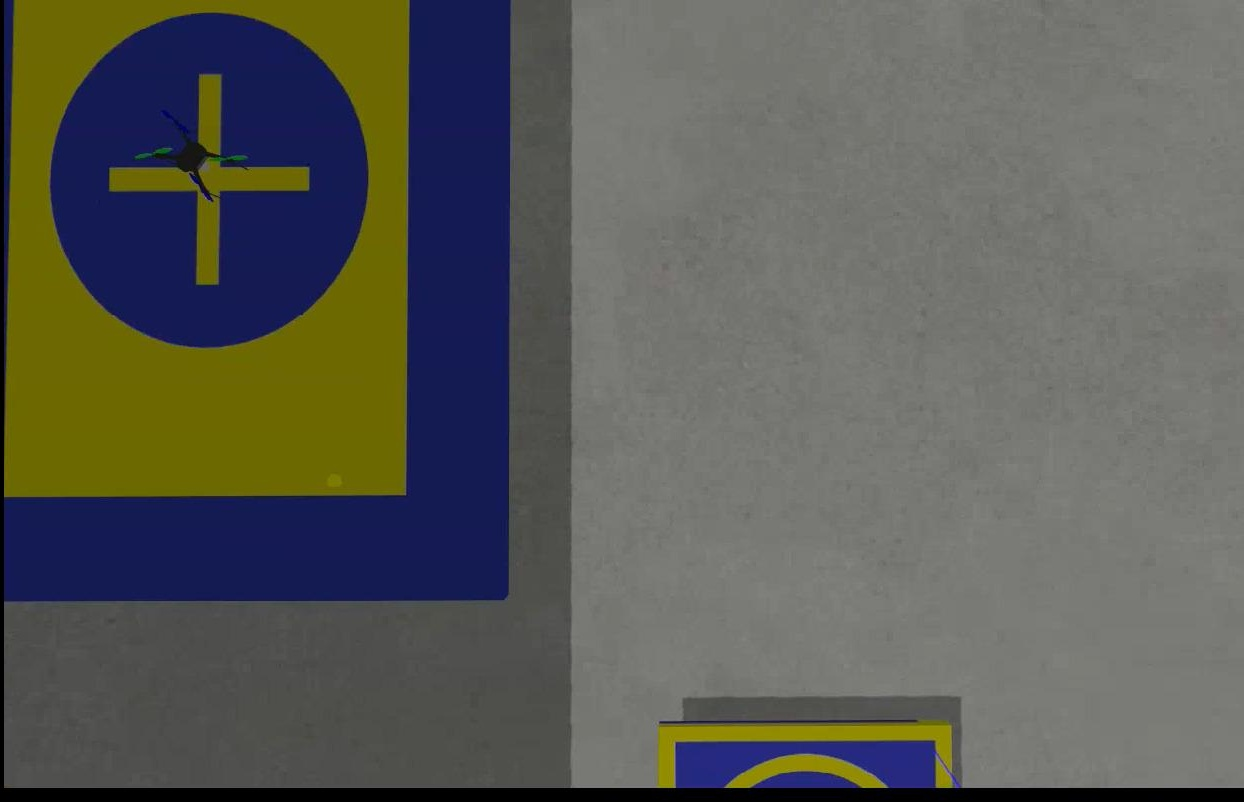large_base: (0, 1, 507, 597)
small_base: (660, 726, 952, 792)
